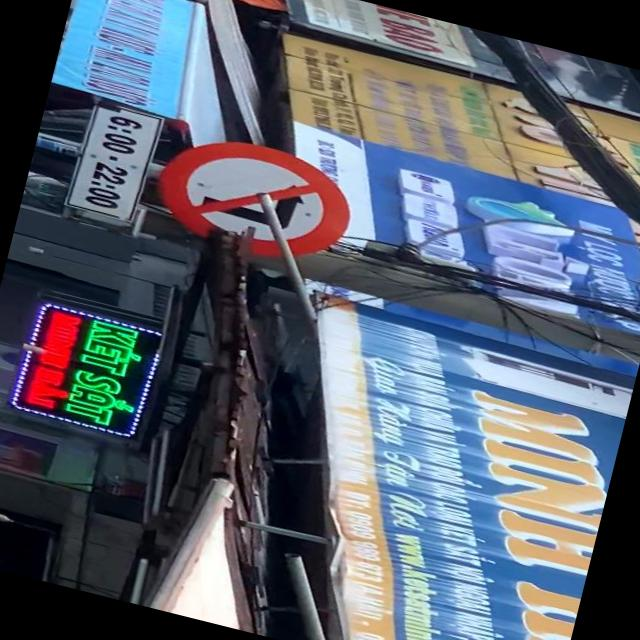P-123a: (149, 124, 361, 272)
